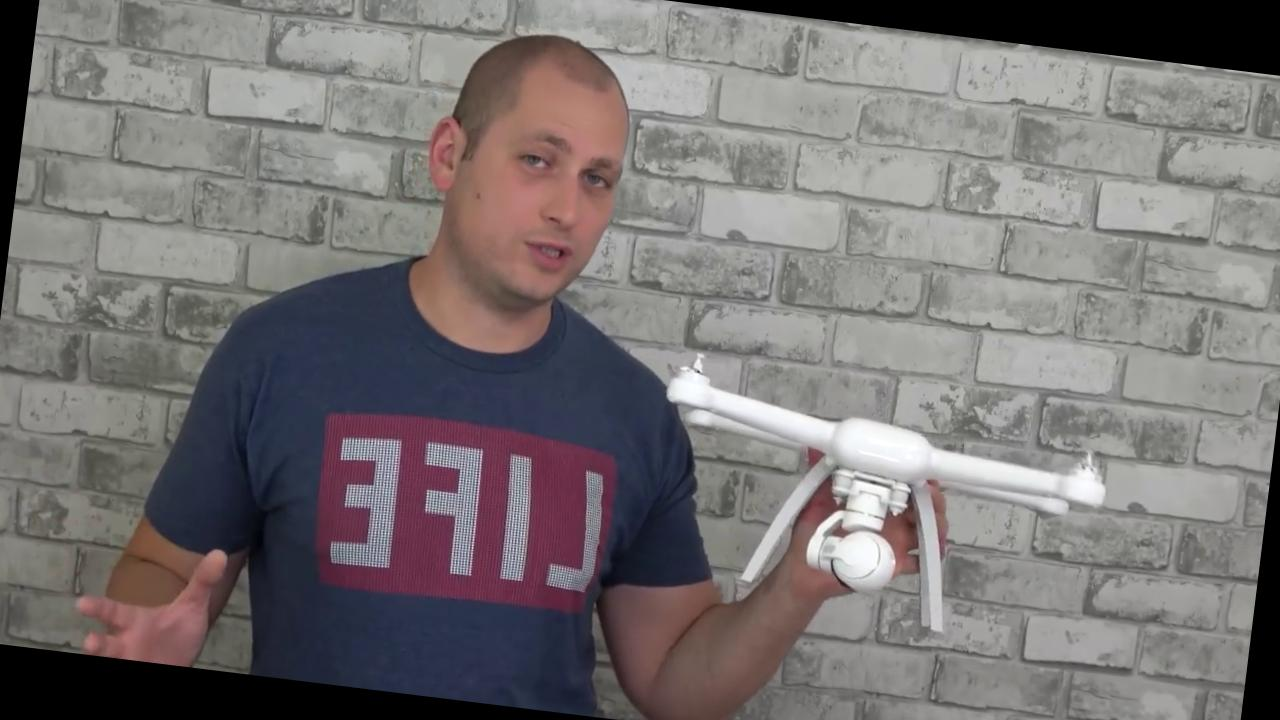drone: (639, 358, 1125, 544)
